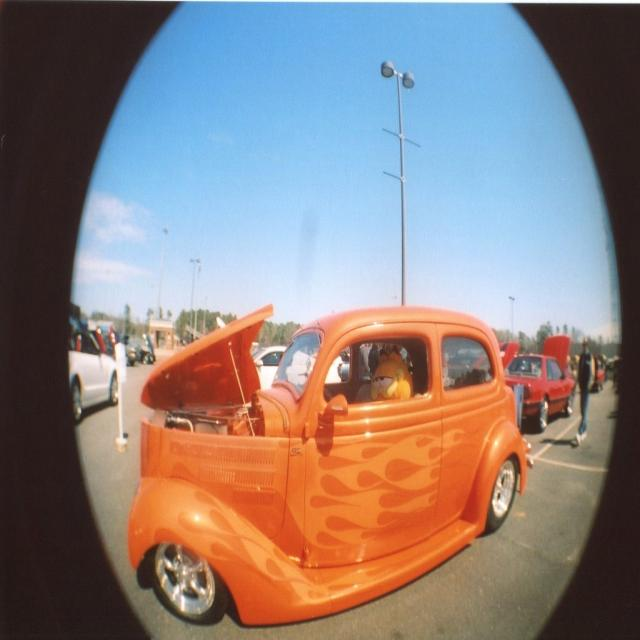car: (124, 299, 527, 626)
